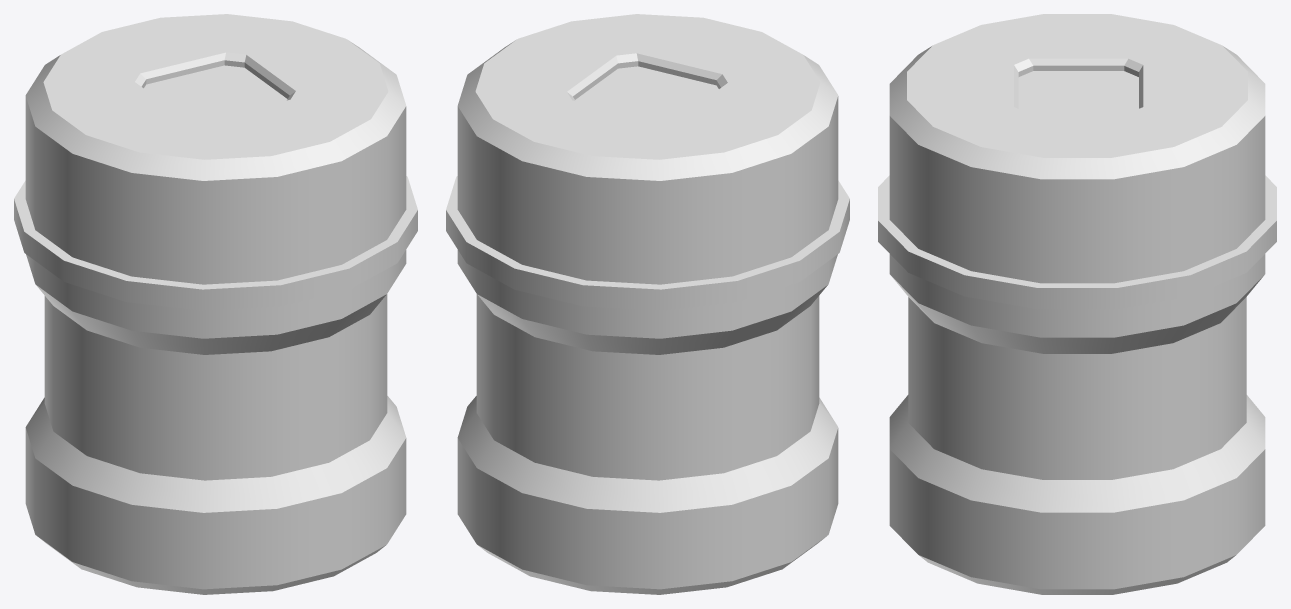
Rendered from Cont_Barrel_static.fbx.
3 views of the same model, side by side, from view 1: azimuth 30°, elevation 25°; view 2: azimuth 150°, elevation 25°; view 3: azimuth 270°, elevation 25° (orthographic).
Visible parts, largest first — view 1: Cont_Barrel_static; view 2: Cont_Barrel_static; view 3: Cont_Barrel_static.
Part boxes in pixels (x1,y1,x2,y2): Cont_Barrel_static: [14, 14, 417, 594]; Cont_Barrel_static: [446, 14, 849, 594]; Cont_Barrel_static: [878, 14, 1276, 594].
Bounding box in the file's own units: 1.14 × 1.37 × 1.14.
